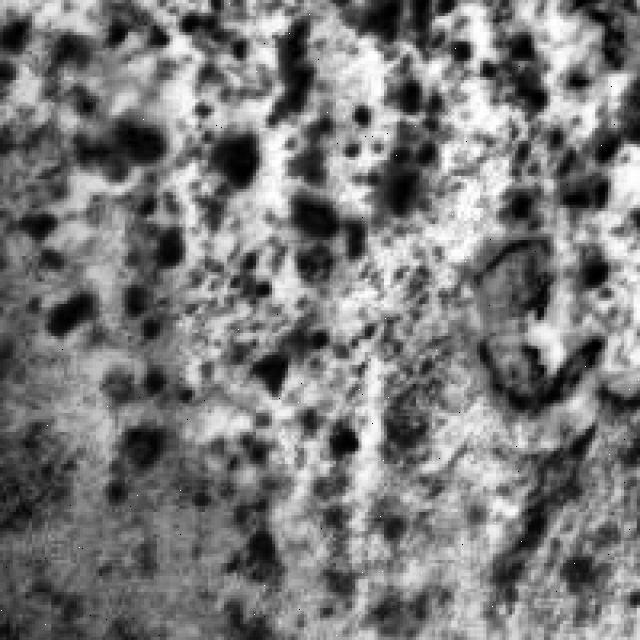Rolled_in_Scale: (3, 16, 477, 496)
Scratches: (468, 211, 614, 416)
